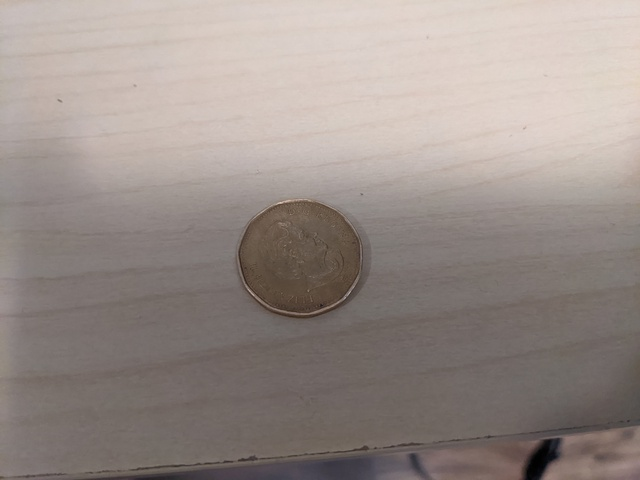loonie: (220, 180, 373, 327)
